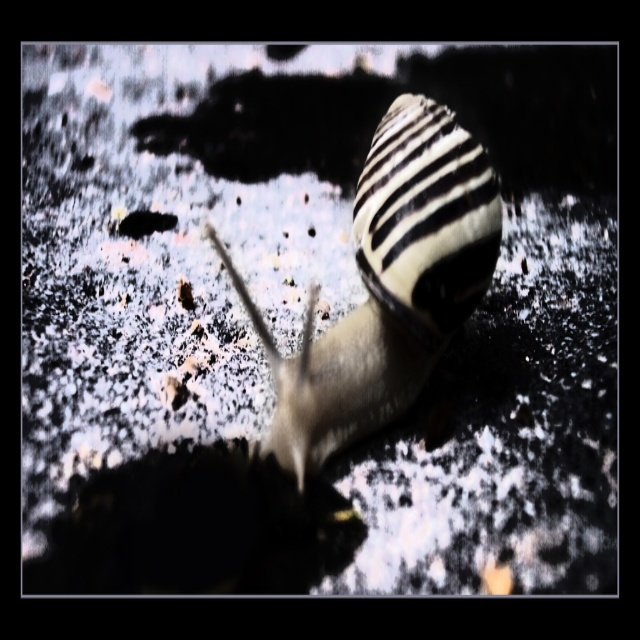Snail: (188, 97, 520, 505)
